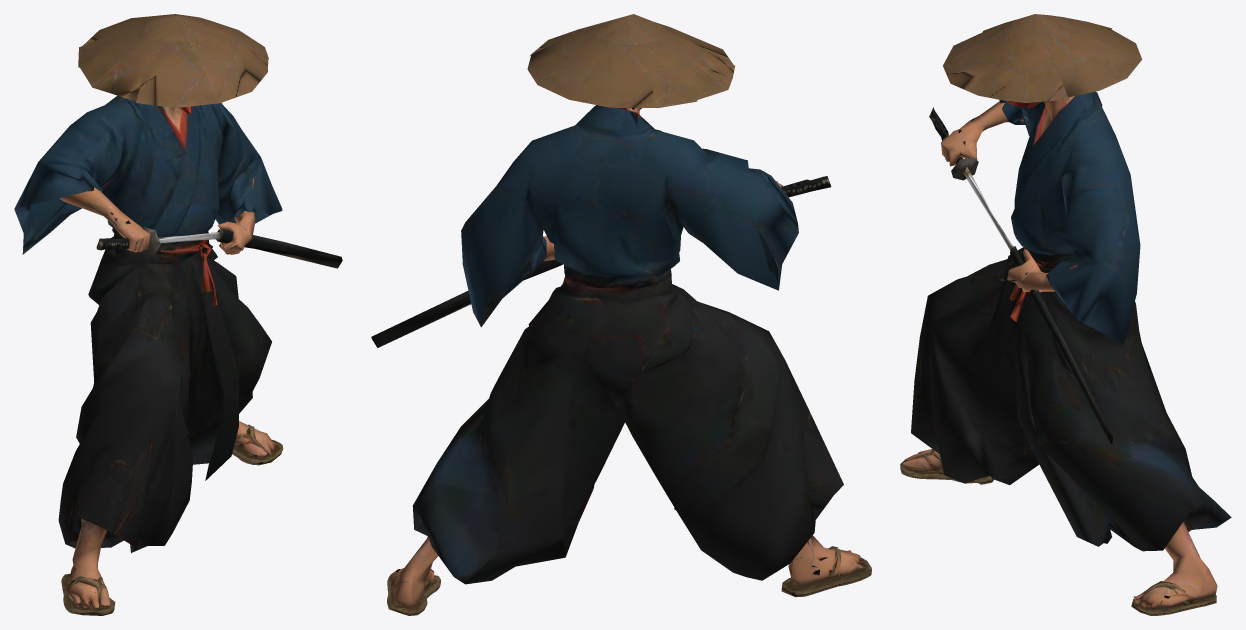
Rendered from p2-mobile.glb.
3 renders of one model, left to right at view 1: azimuth 30°, elevation 25°; view 2: azimuth 150°, elevation 25°; view 3: azimuth 270°, elevation 25°, orthographic. The views are drawn at different scales.
Visible parts, largest first — view 1: geometry_0; view 2: geometry_0; view 3: geometry_0.
Part boxes in pixels (x1,y1,x2,y2): geometry_0: [14, 14, 342, 615]; geometry_0: [371, 14, 871, 615]; geometry_0: [900, 14, 1231, 615].
Size of the model in its own units: 1.2 by 1.62 by 0.9258.
Materials: 1 (1 with a texture image).
